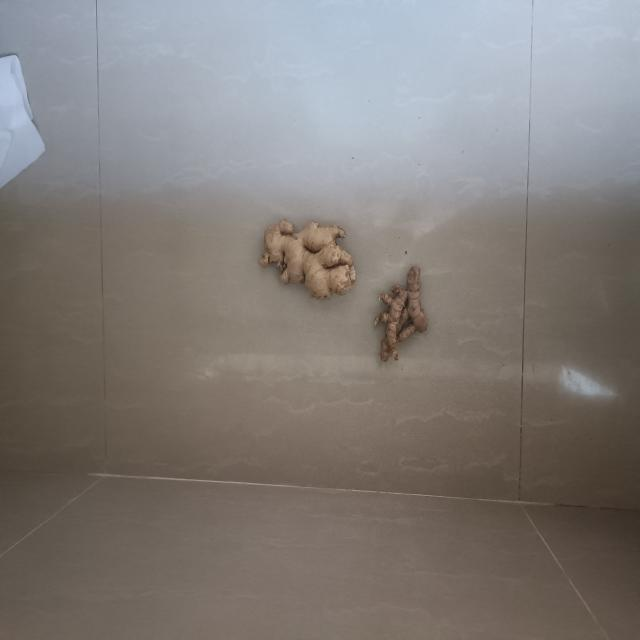ginger: (259, 215, 356, 299), (375, 261, 428, 366)
